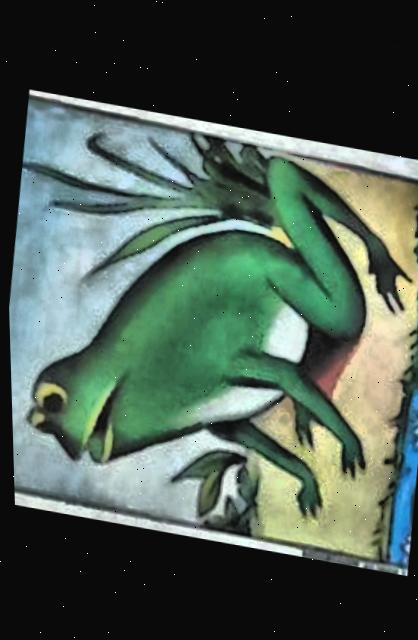La Rana: (7, 99, 418, 563)
